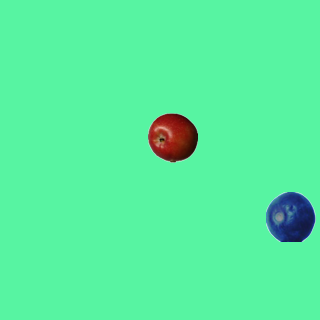Apple Braeburn: (147, 112, 197, 162)
Huckleberry: (265, 191, 315, 241)
